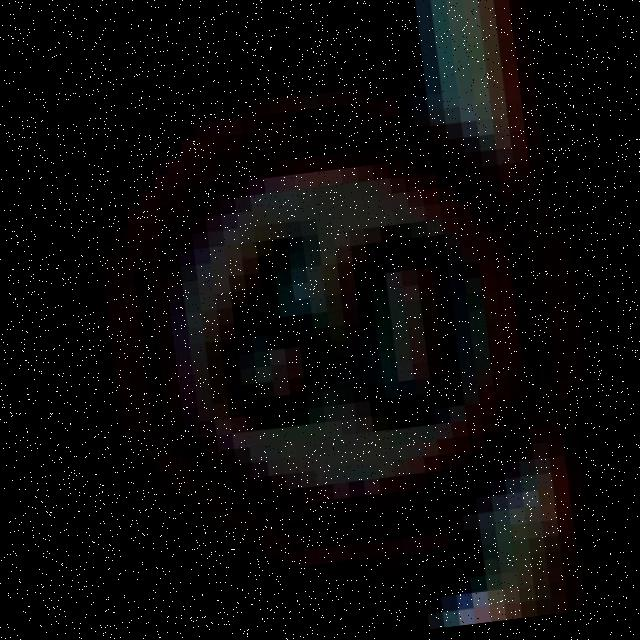Ograniczenie predkosci do 60: (14, 34, 640, 634)
